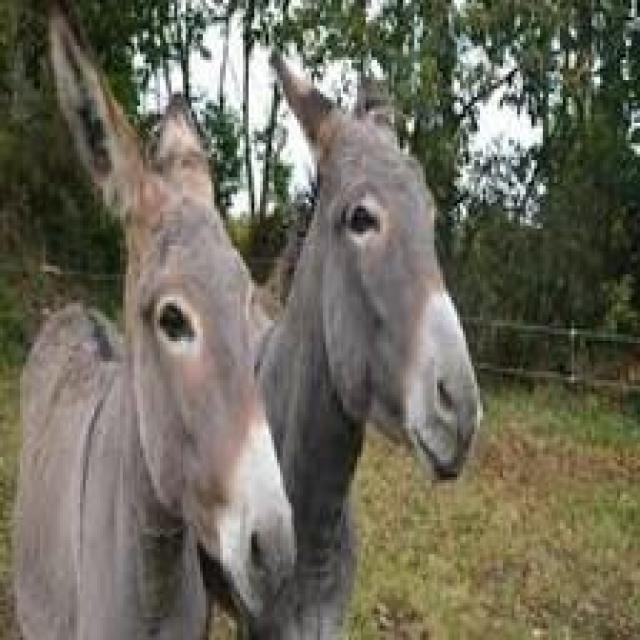Donkey: (9, 0, 297, 637), (197, 46, 483, 637)
